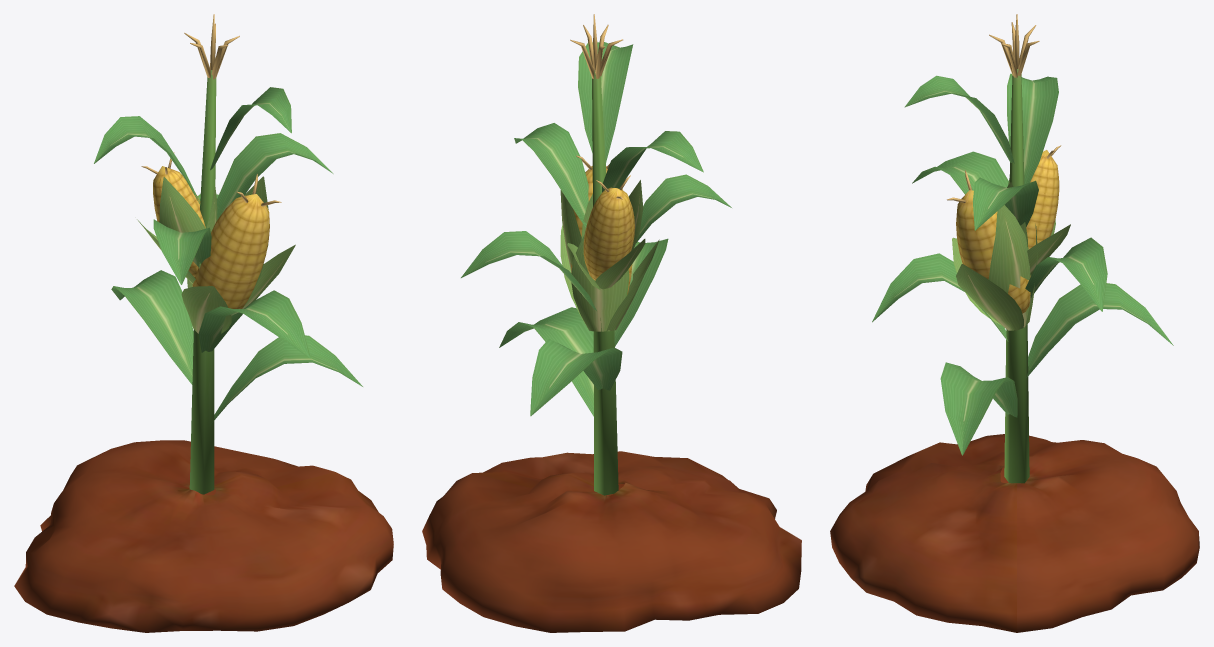
The picture shows the model from 3 angles, left to right: view 1: azimuth 30°, elevation 25°; view 2: azimuth 150°, elevation 25°; view 3: azimuth 270°, elevation 25°; orthographic projection.
Visible parts, largest first — view 1: corn-ready; view 2: corn-ready; view 3: corn-ready.
Boxes of the visible parts, <box> form: corn-ready: <box>14,14,393,632</box>; corn-ready: <box>422,14,801,632</box>; corn-ready: <box>830,14,1199,632</box>.
Size of the model in its own units: 0.7926 by 1.17 by 0.7248.
Materials: 1 (1 with a texture image).
